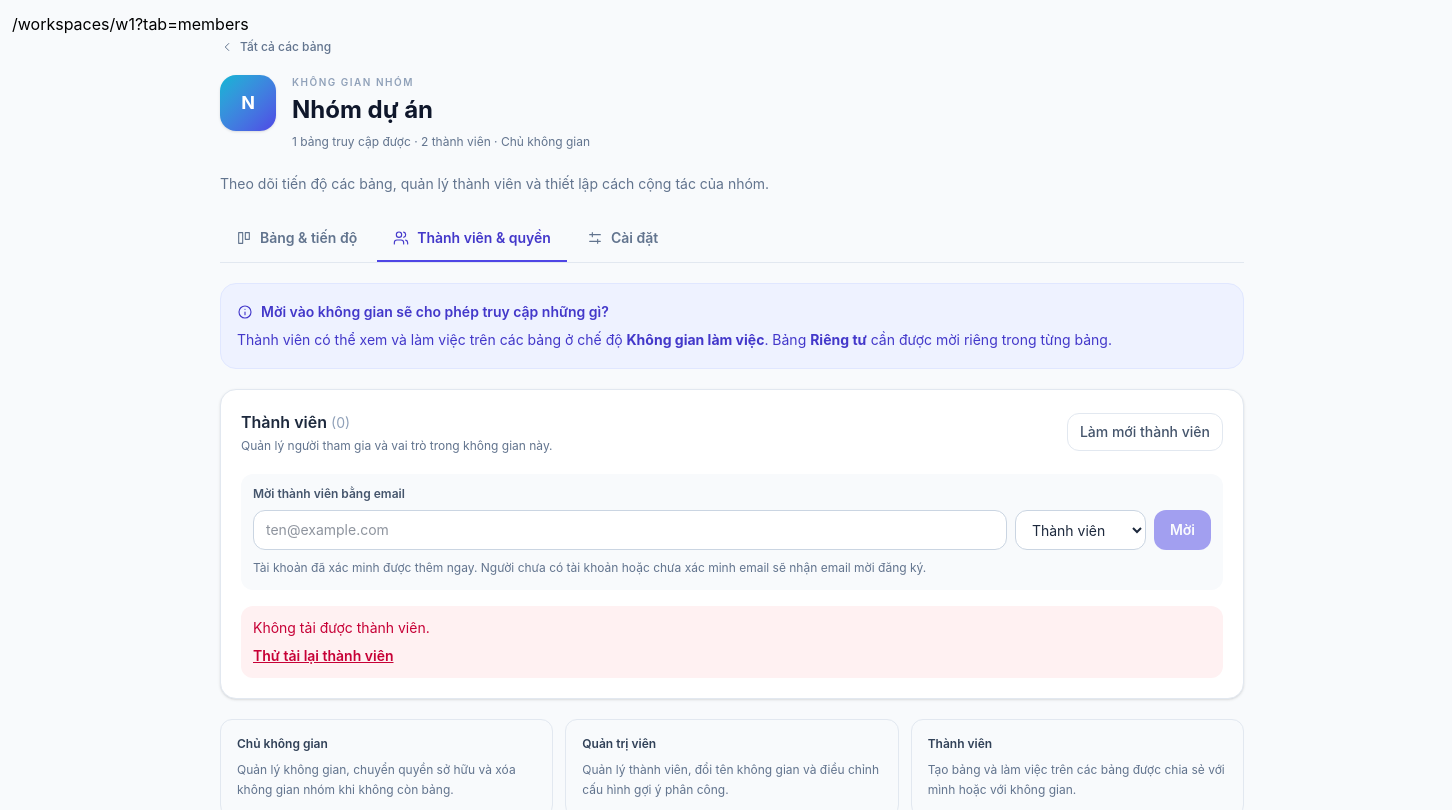
Test: Workspace management › shows membership request failures and lets the user retry without a fake empty list
Expected: the message shows "Không tải được thành viên.", left=253, top=619, right=430, bottom=636
What coordinates should you click on to do the following:
click the button "Thử tải lại thành viên"
I would click on:
 (323, 656)
Its box is left=253, top=646, right=394, bottom=666.
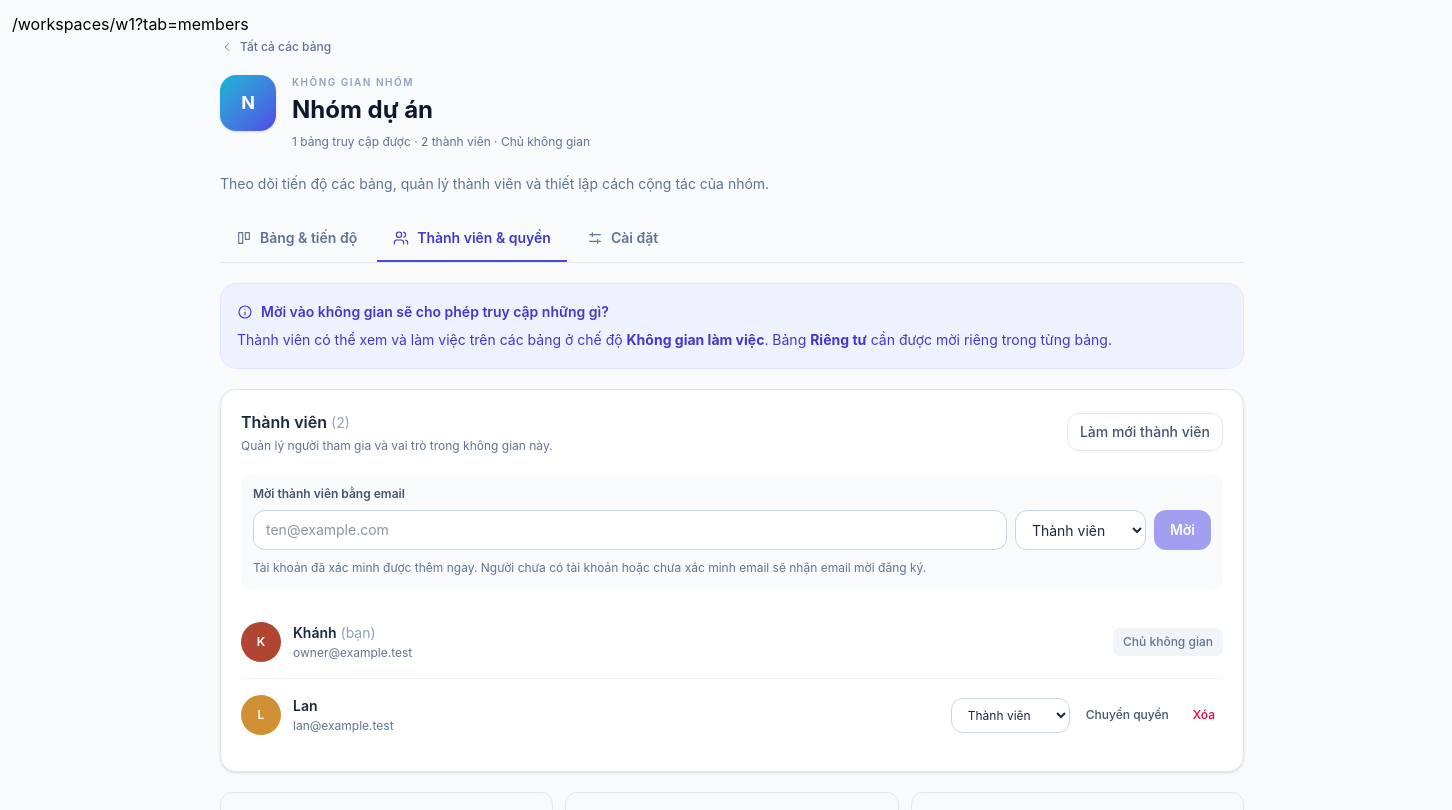
Now the dropdown named "Vai trò của Lan" is shown, box left=951, top=698, right=1070, bottom=732
Now the message "Không tải được thành viên. Thử tải lại thành viên" is gone
